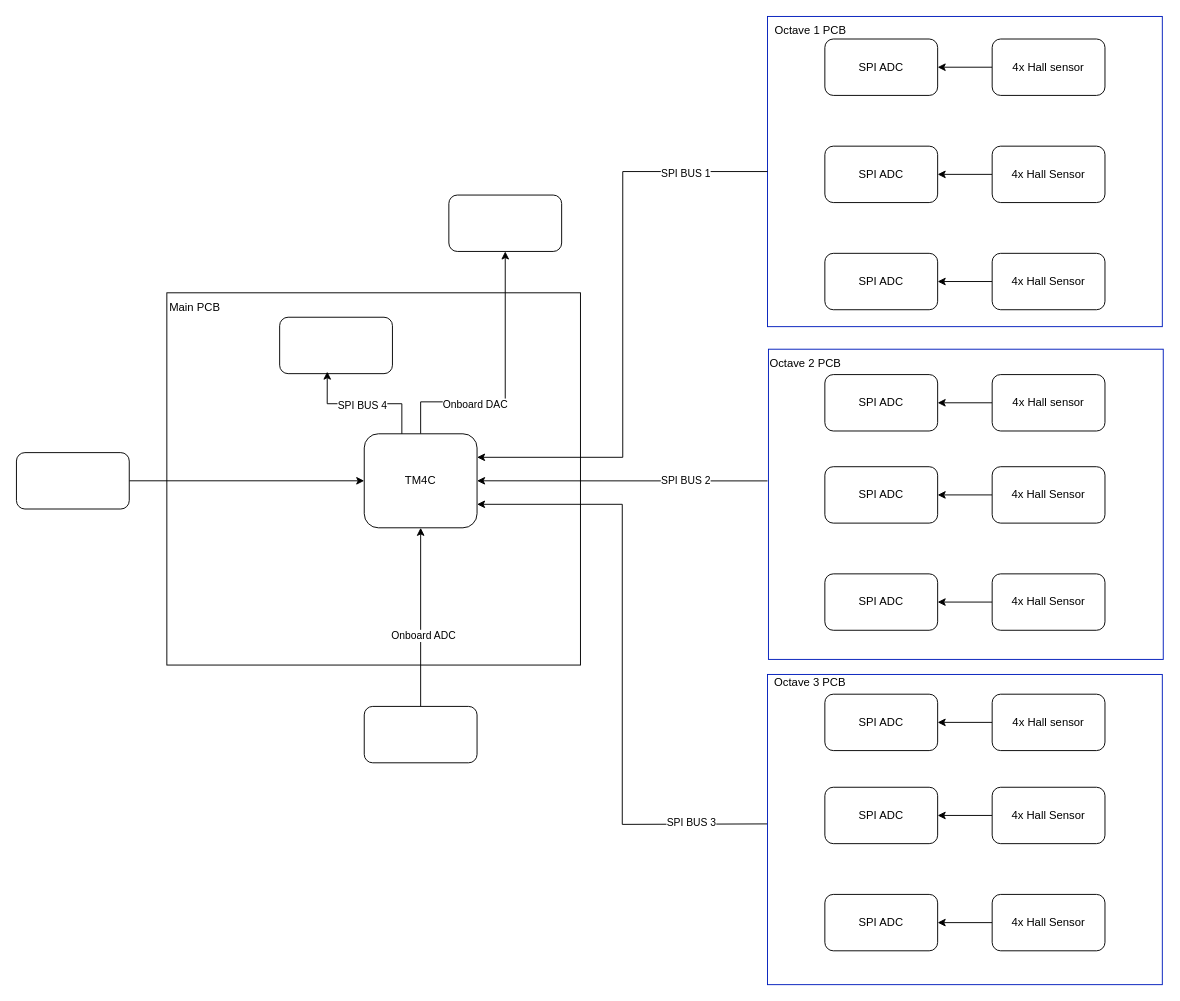
The diagram is 1180 pixels wide and 1001 high, and some of its shapes have lost their labels. Each missing label, with the centre of its shape:
"LCD" goes at point 335,345.
"Microphone" goes at point 420,734.
"Speaker" goes at point 505,222.
"USB1 Power" goes at point 72,480.
